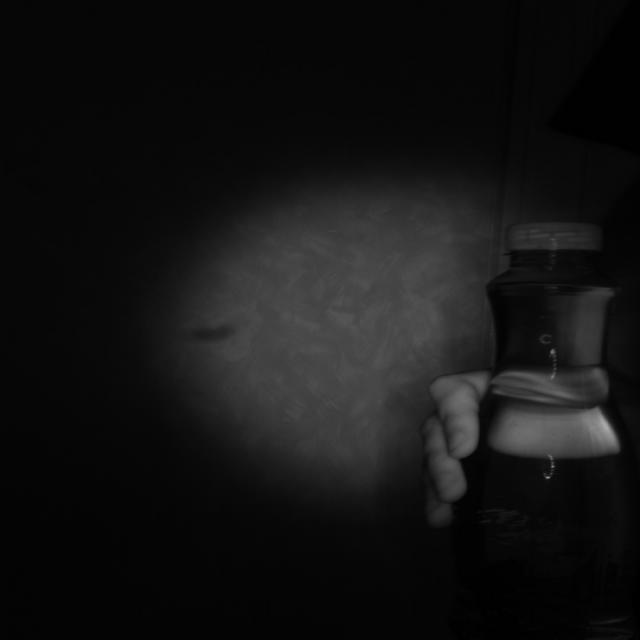Good: (500, 212, 606, 258)
